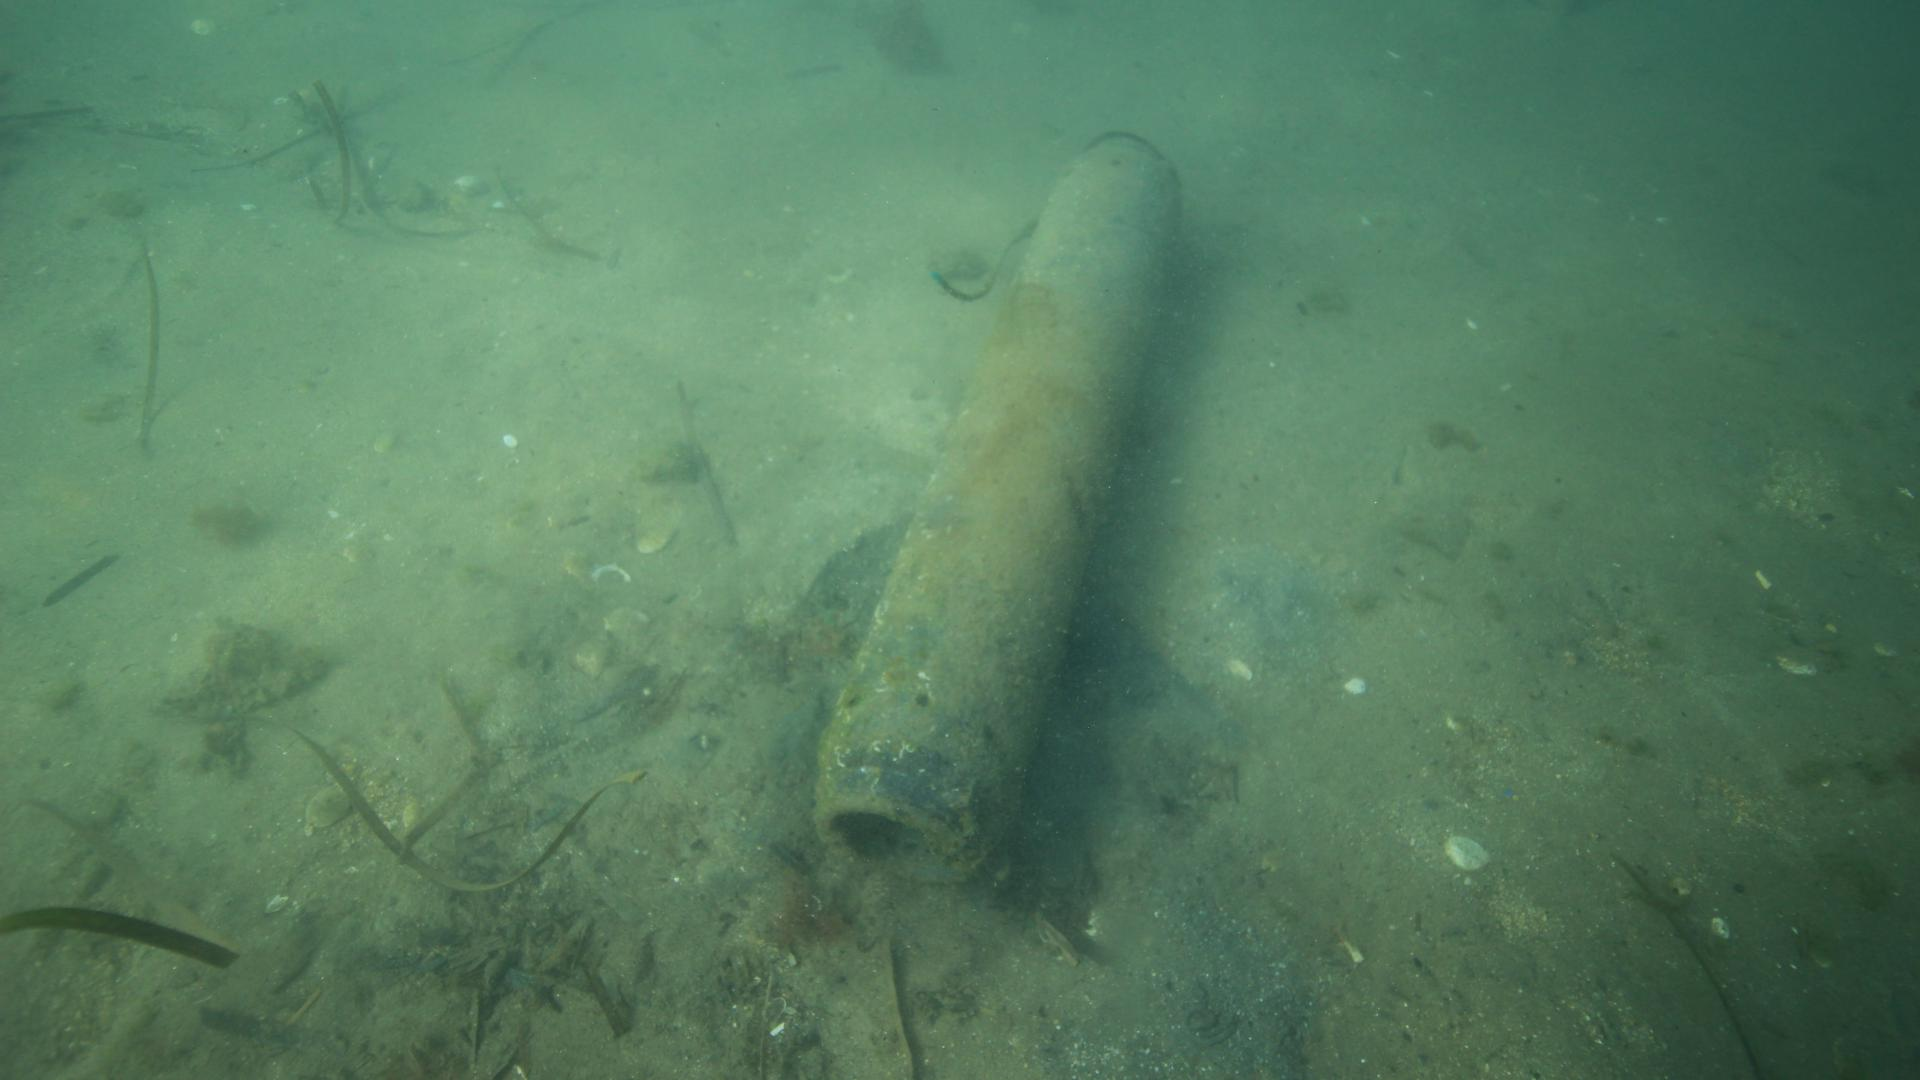eel fish trap: (810, 128, 1178, 886)
